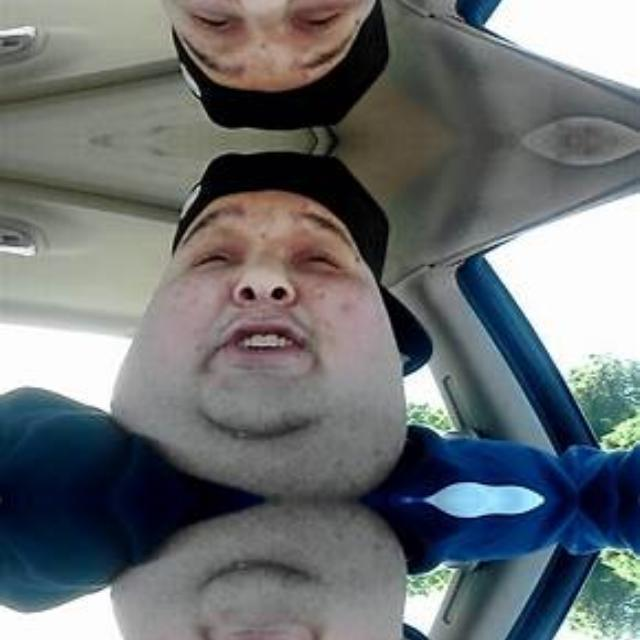person: (116, 142, 532, 500), (116, 500, 531, 640), (116, 0, 531, 138)
